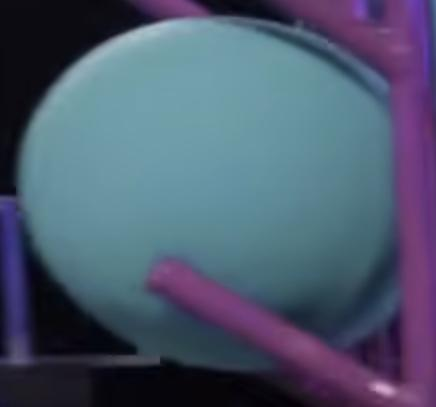algae: (18, 16, 394, 367)
